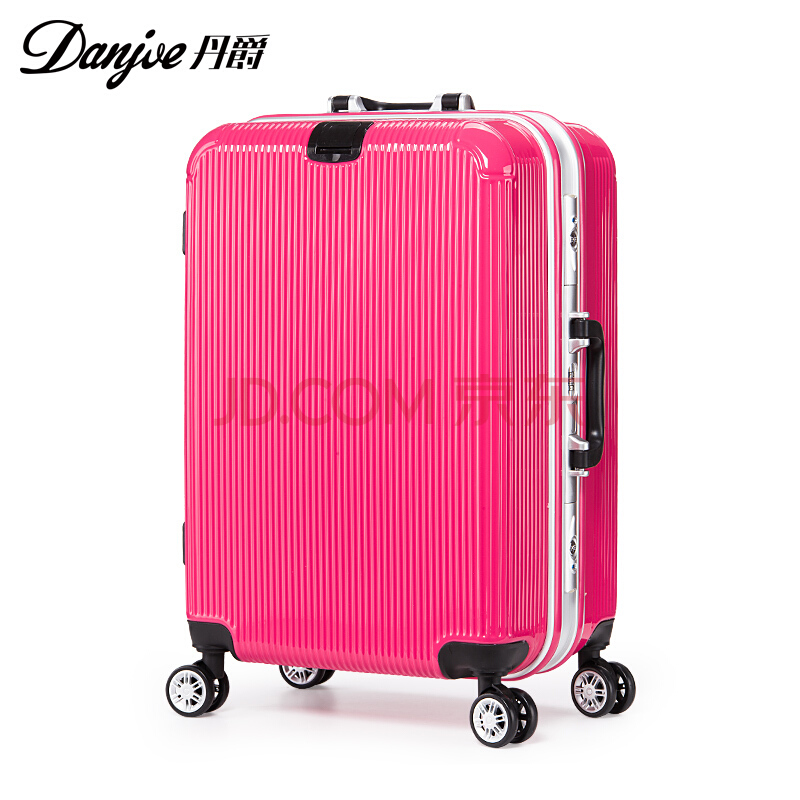luggage: (166, 91, 637, 750)
